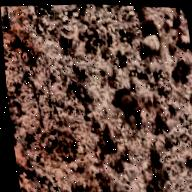boar: (105, 81, 153, 147)
